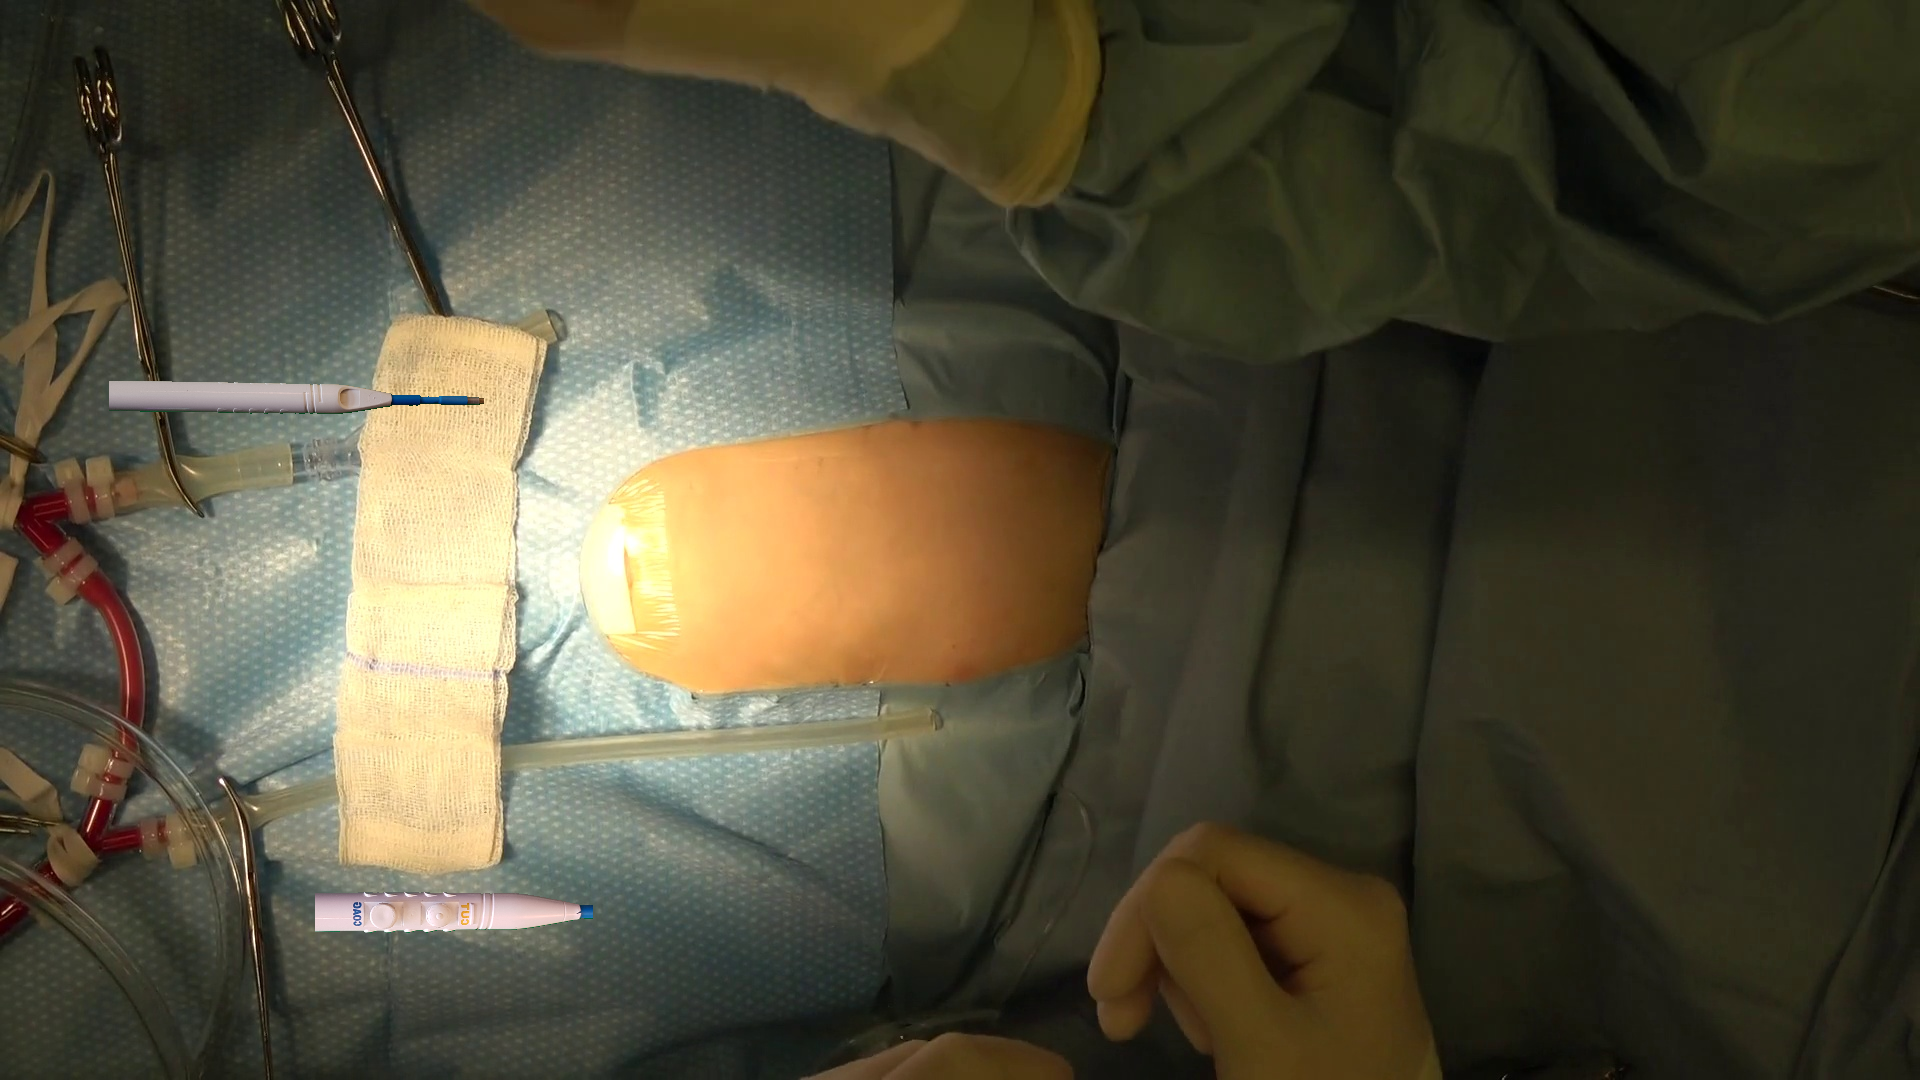diathermy: (109, 381, 483, 413), (315, 891, 592, 932)
